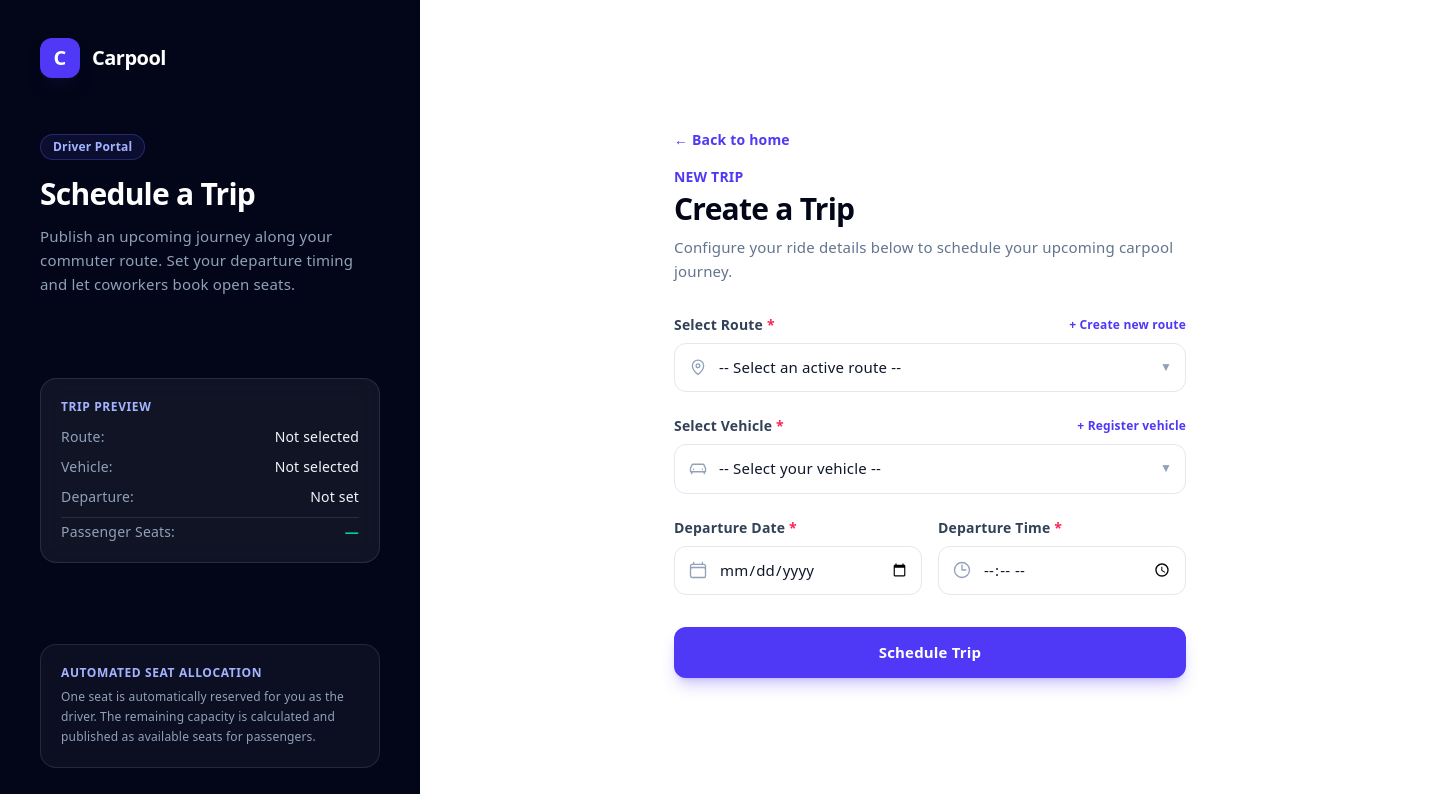
Test: CreateTripPage › submits the form successfully and displays the success modal
Select route
Select "Downtown Commute" in the dropdown labelled "Select Route *" at (930, 368), box [674,343,1186,392]
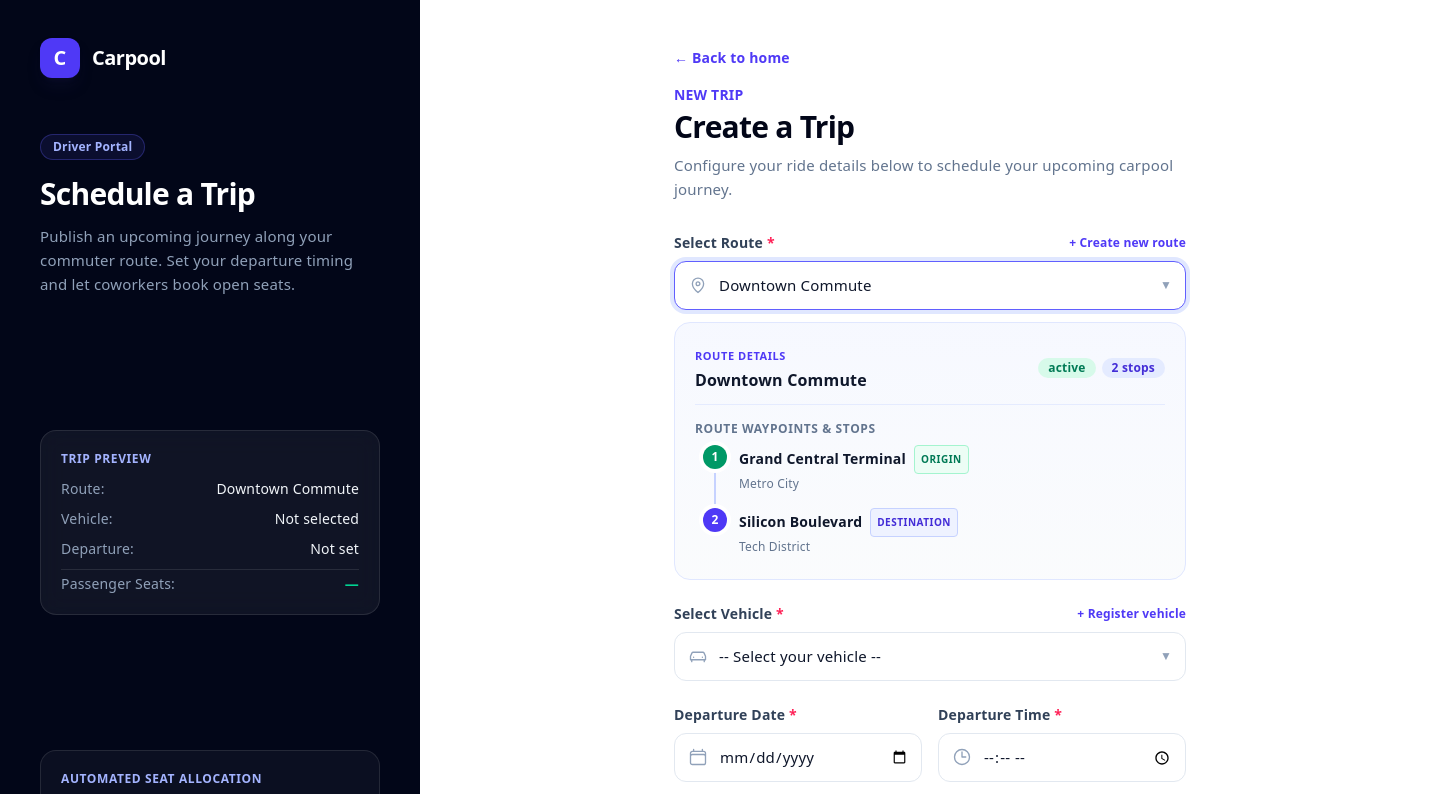
Expected: the text "Grand Central Terminal" is shown, [739,449,906,469]
Expected: the text "Silicon Boulevard" is shown, [739,512,862,532]
Expected: the text "Origin" is shown, [914,445,969,474]
Select vehicle
Select "Toyota Camry (DL01AB1234) — 5 total seats" in the dropdown labelled "Select Vehicle *" at (930, 657), box [674,632,1186,681]
(page scrolled)
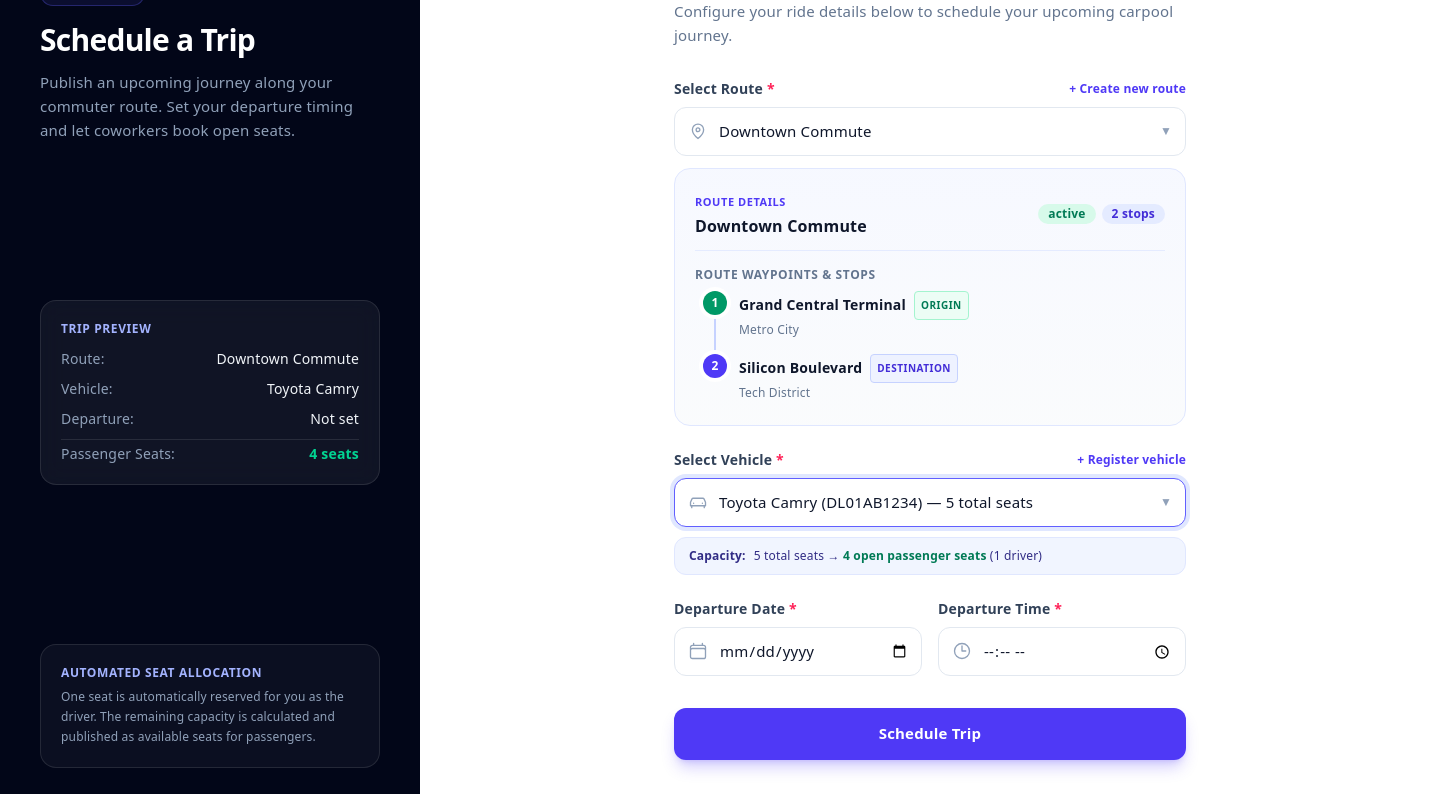
Expected: the text "4 open passenger seats" is shown, [843,547,987,564]
Fill date and time (using future date)
Type "2030-01-01" into the date field labelled "Departure Date *" at (798, 652), box [674,627,922,676]
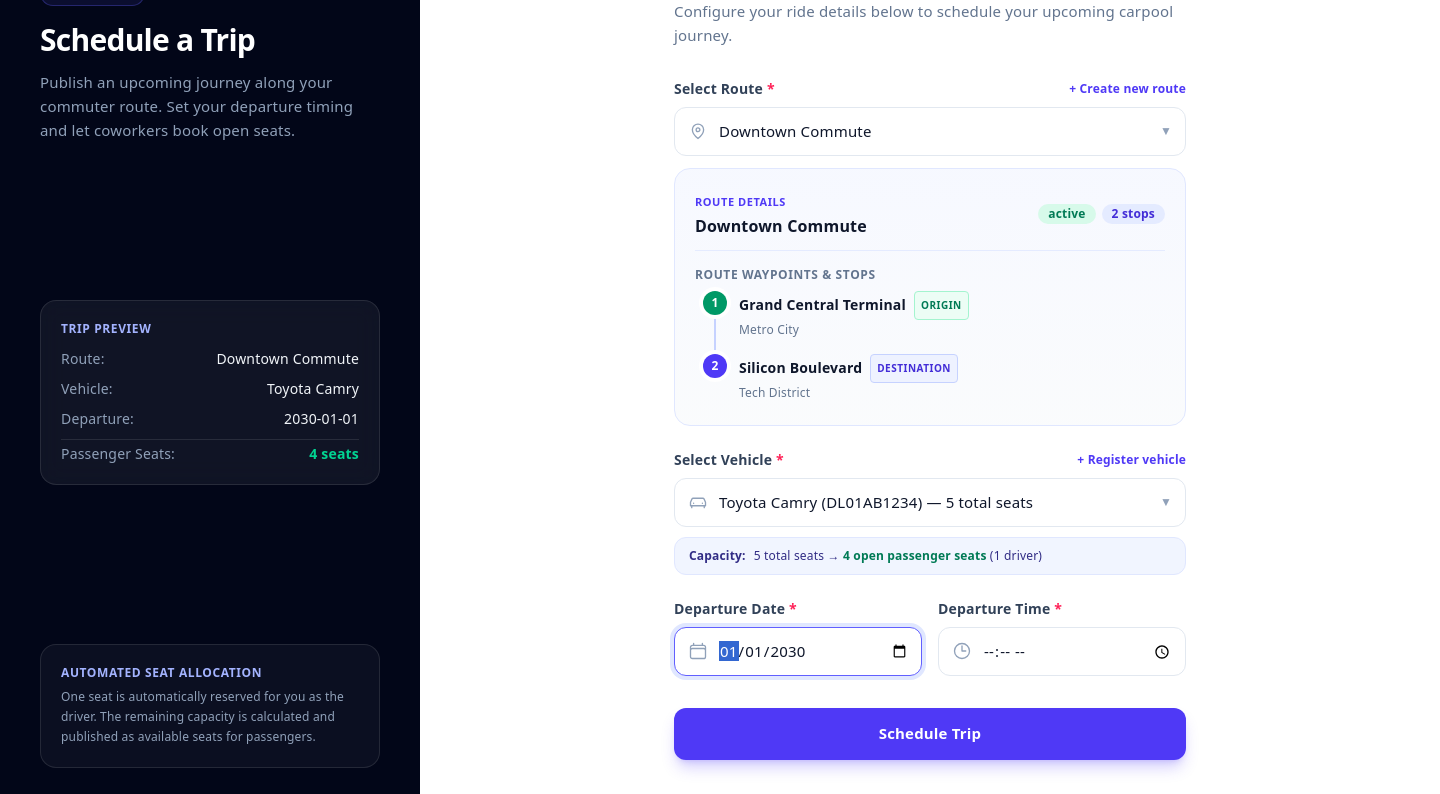
Type "10:00" into the time field labelled "Departure Time *" at (1062, 652), box [938,627,1186,676]
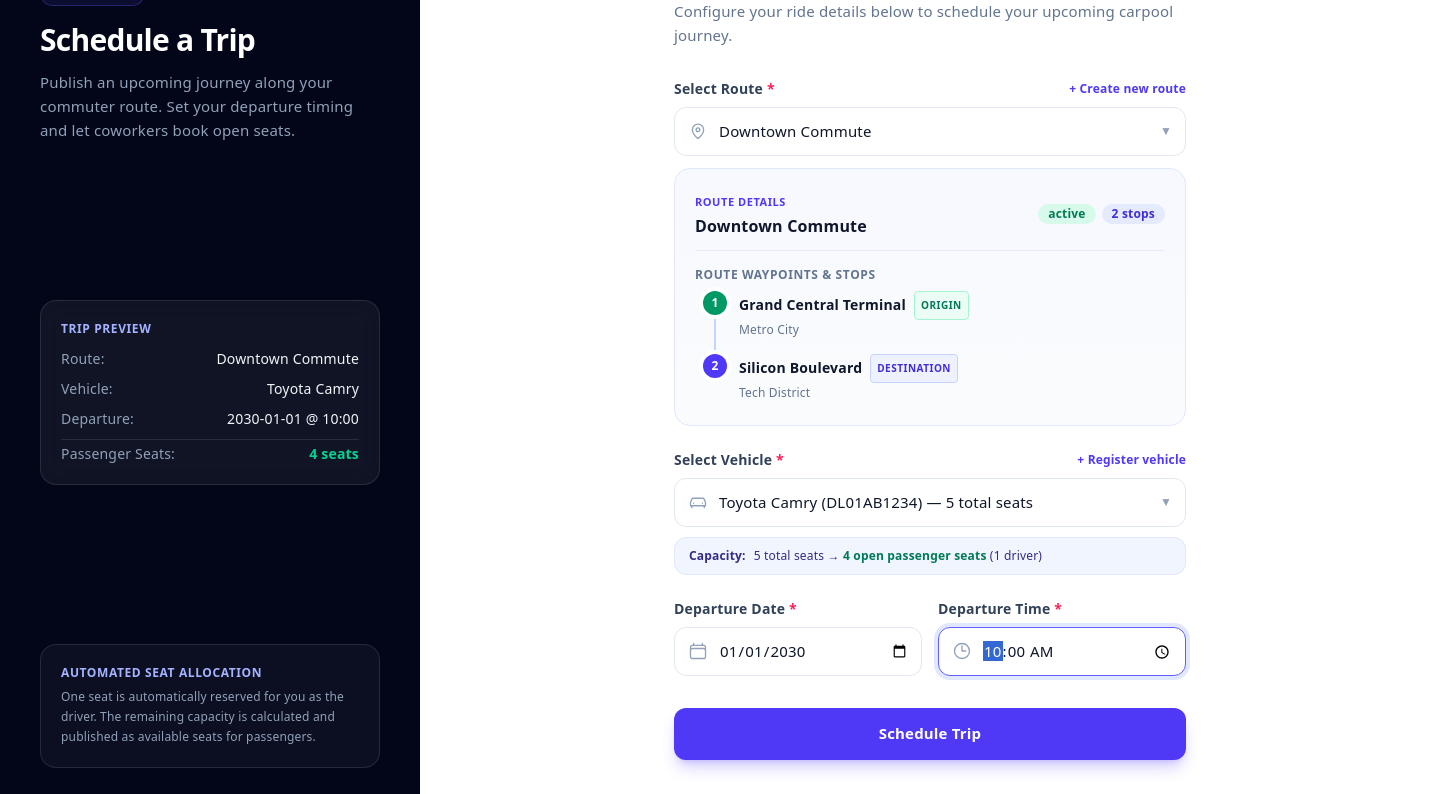
Click the button "Schedule Trip" at (930, 734), box [674,708,1186,760]
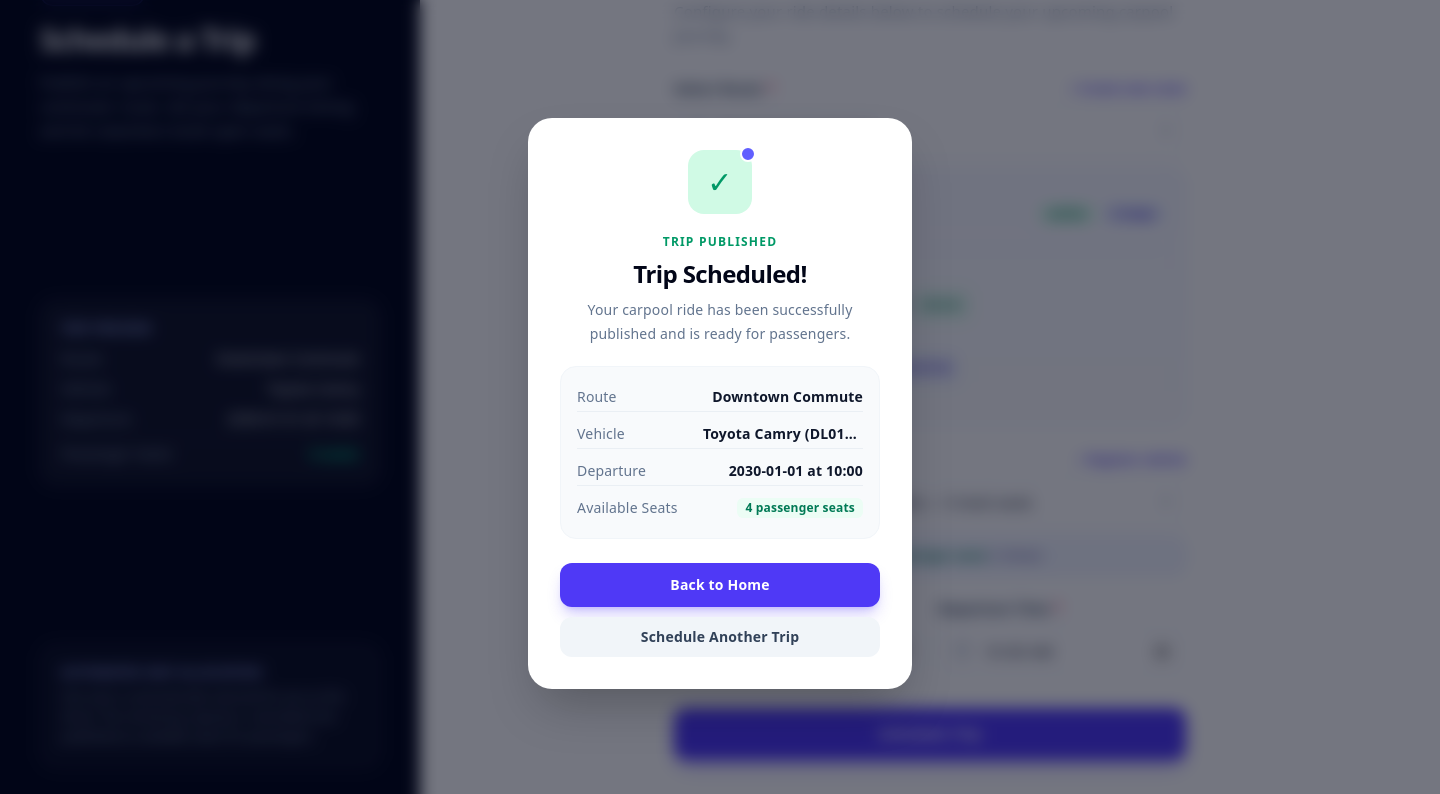
Expected: the heading "Trip Scheduled!" is shown, [633,256,807,290]
Expected: the text "Downtown Commute" is shown, [712,386,863,406]
Expected: the button "Back to Home" is shown, [560,562,880,606]
